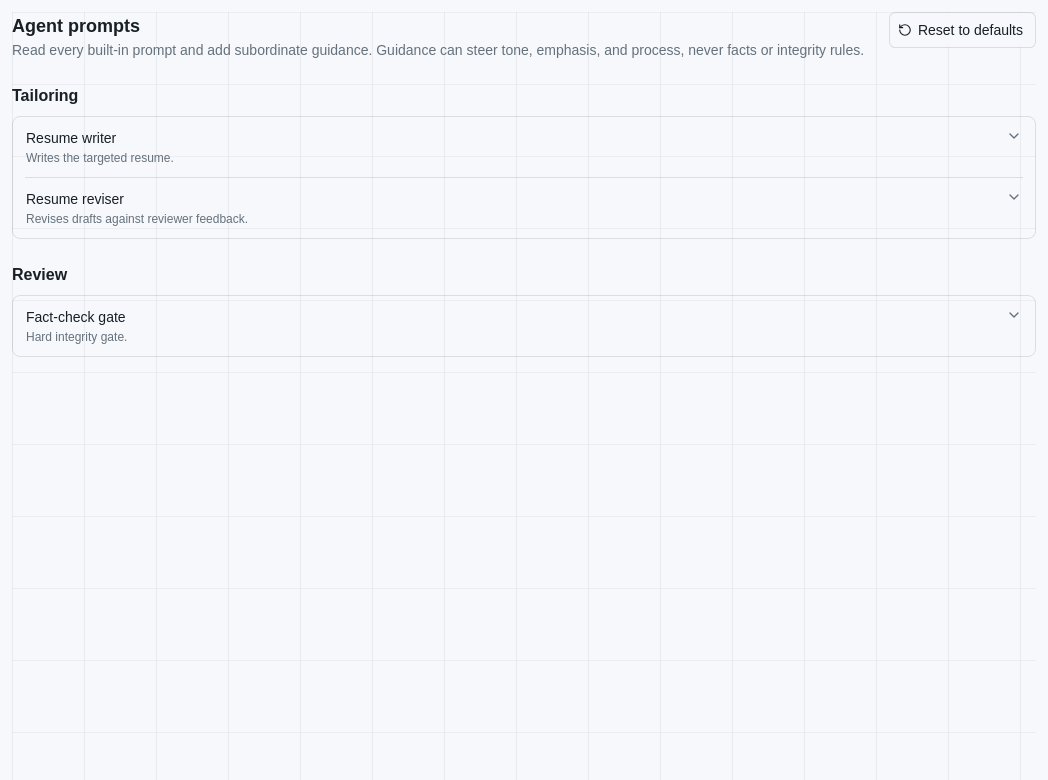
Test: AgentPromptsPage › groups agents and reveals immutable base instructions
Check: the heading "Tailoring" is shown, box [12,87,78,104]
Click the text "Resume writer" at (71, 138), box [26,130,116,146]
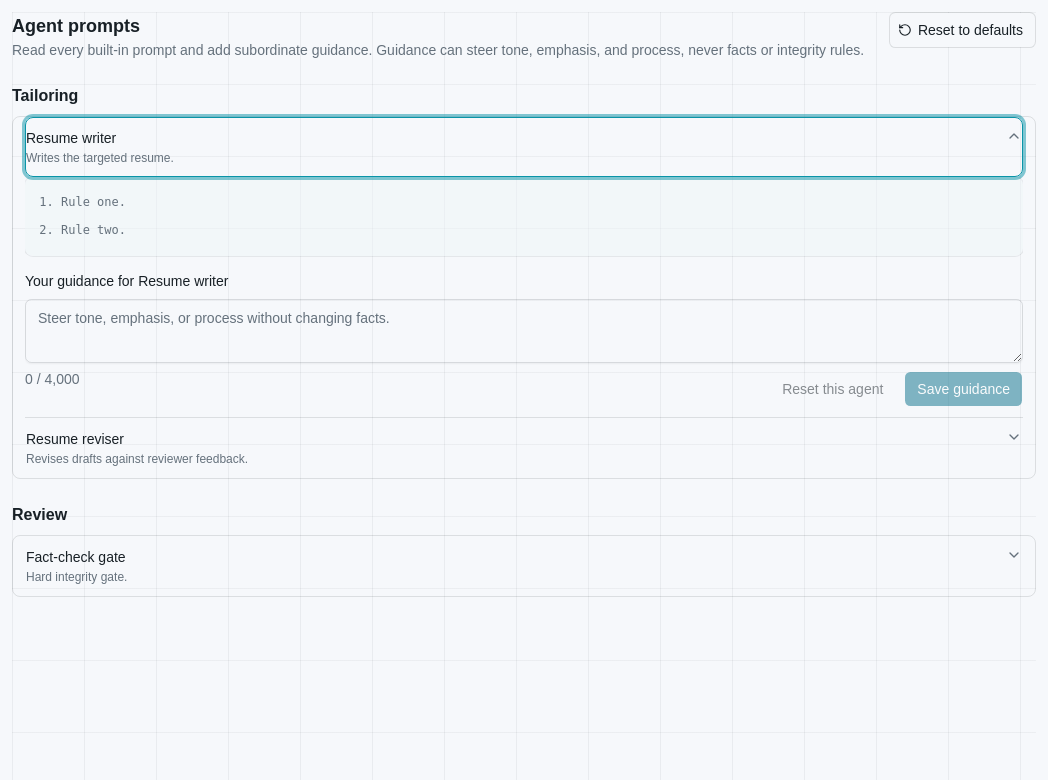
Check: the list item "Rule one." is shown, box [61,195,126,209]
